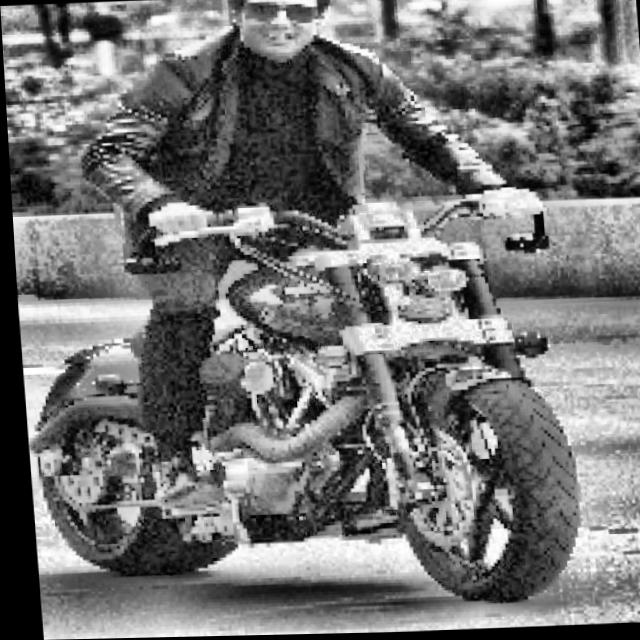motorcycle: (9, 188, 610, 622)
